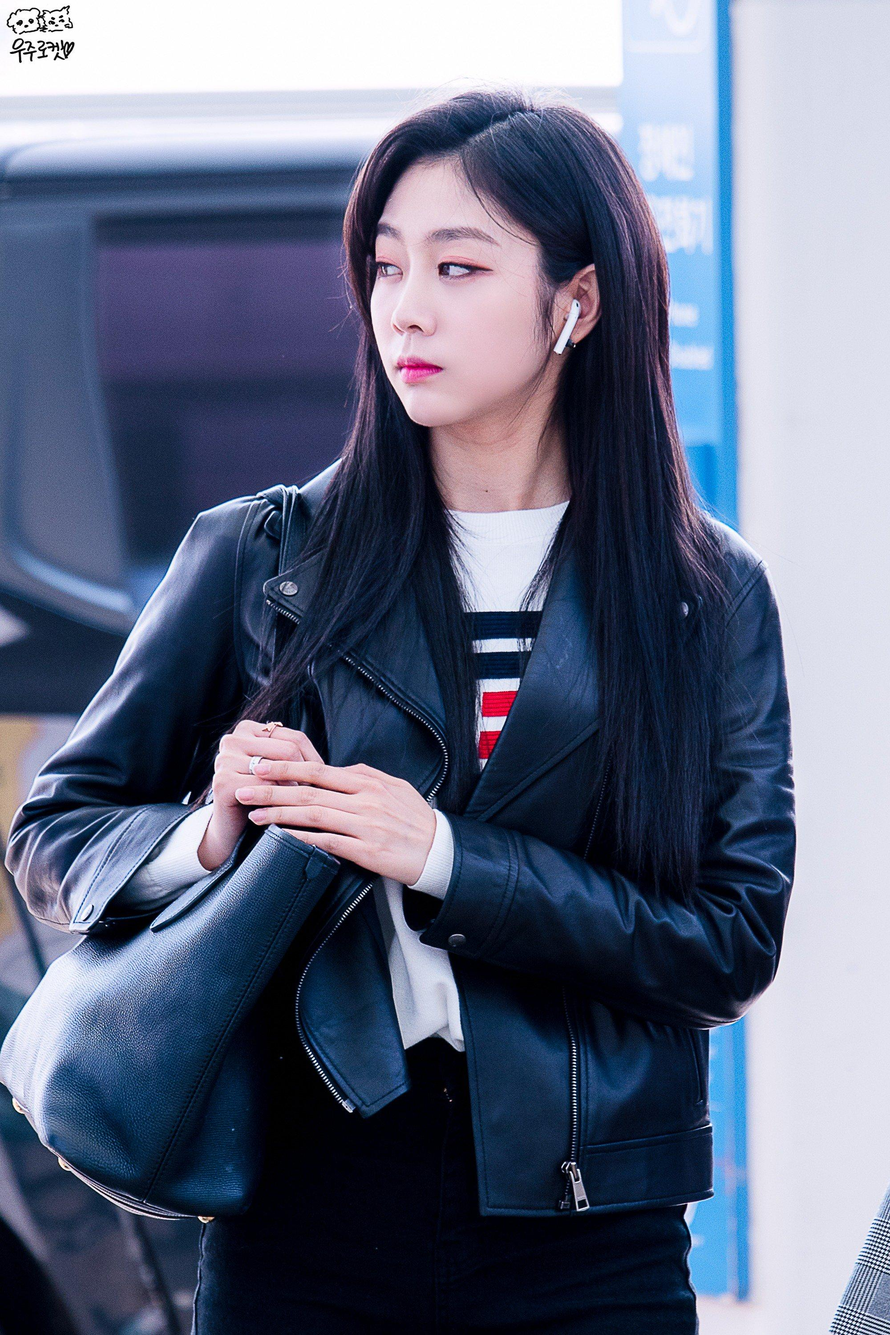earphone: (544, 290, 590, 361)
